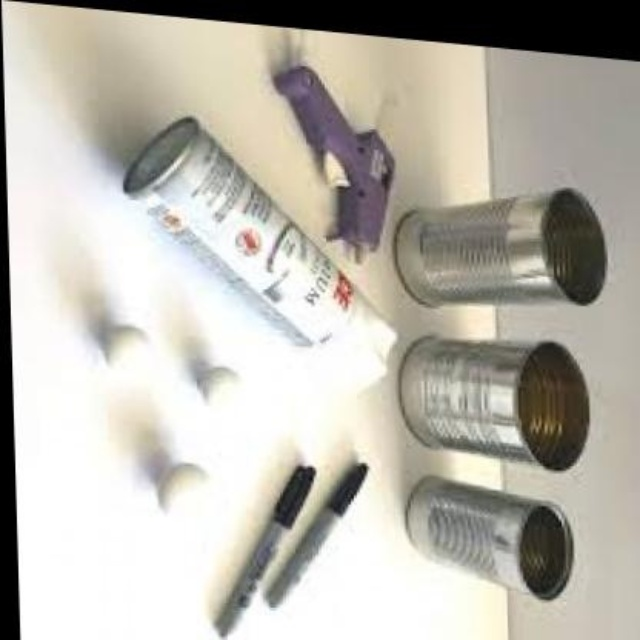trash: (123, 117, 354, 342), (398, 337, 588, 469), (394, 189, 605, 305), (406, 475, 572, 598)
